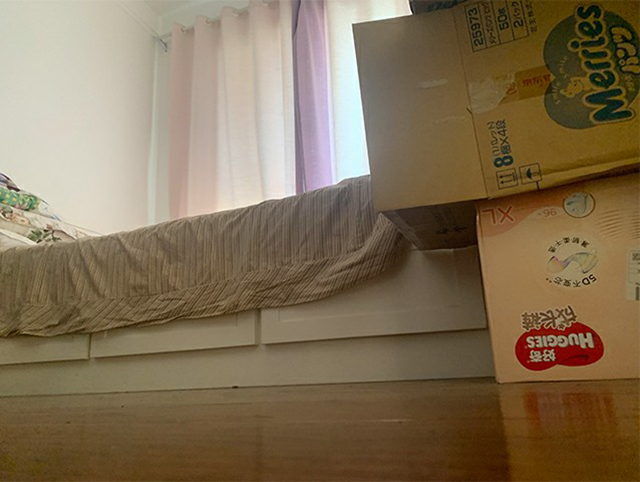bed: (1, 173, 496, 398)
